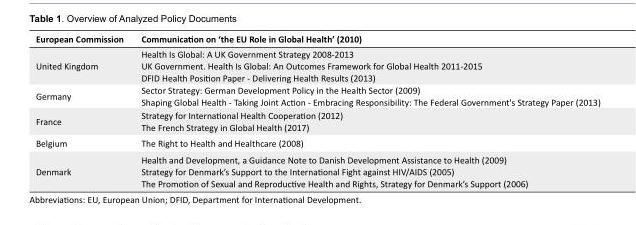table: (34, 34, 599, 188)
table column: (131, 34, 599, 188), (34, 34, 131, 188)
table row: (34, 46, 599, 84), (34, 151, 599, 188), (34, 108, 599, 135), (34, 84, 599, 108), (34, 135, 599, 151), (34, 34, 599, 46)
